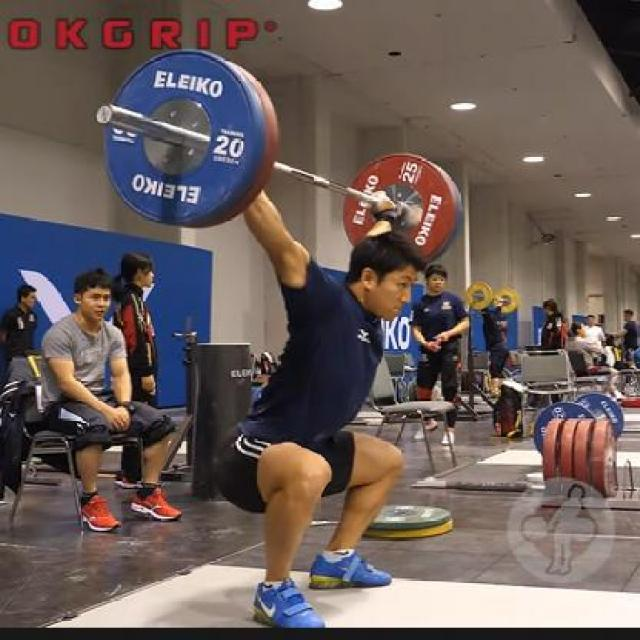Barbell: (94, 100, 118, 126)
